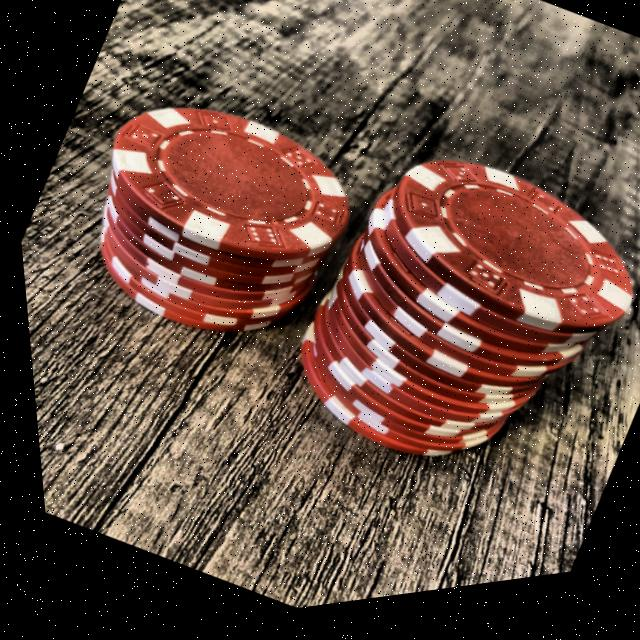Chip: (209, 78, 640, 569), (15, 25, 411, 423)
